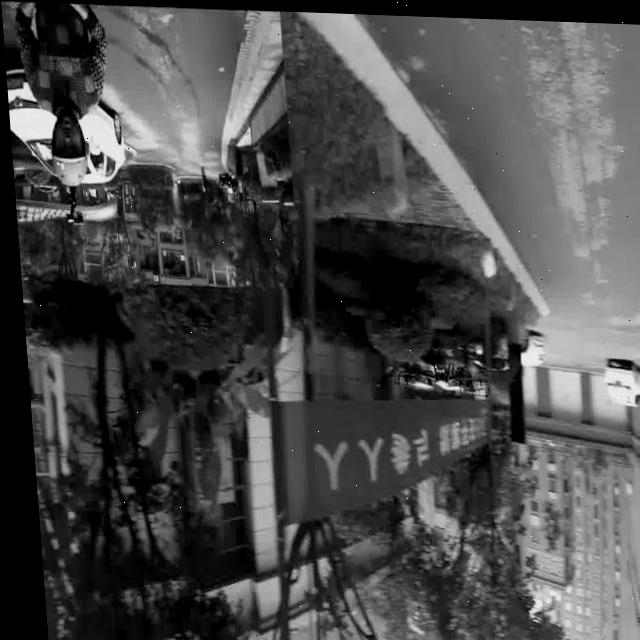drone: (365, 326, 488, 416)
